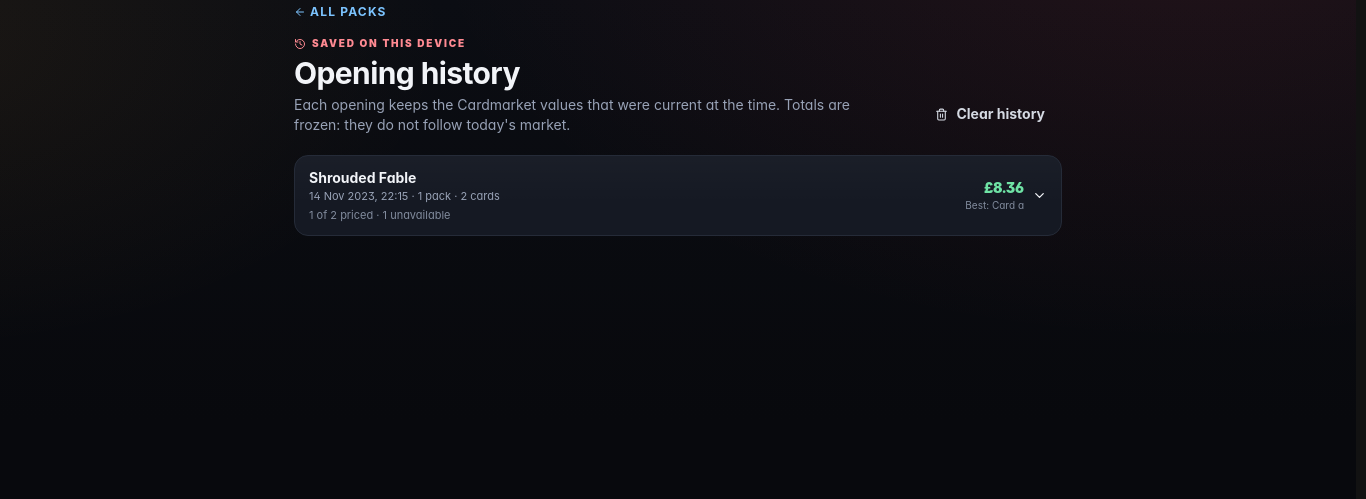
Test case: opening history page › shows both copies when the same card is pulled twice in one pack
What coordinates should you click on to do the following:
click the button "Shrouded Fable"
I would click on:
 (363, 178)
Its box is top-left (295, 156), bottom-right (1061, 235).
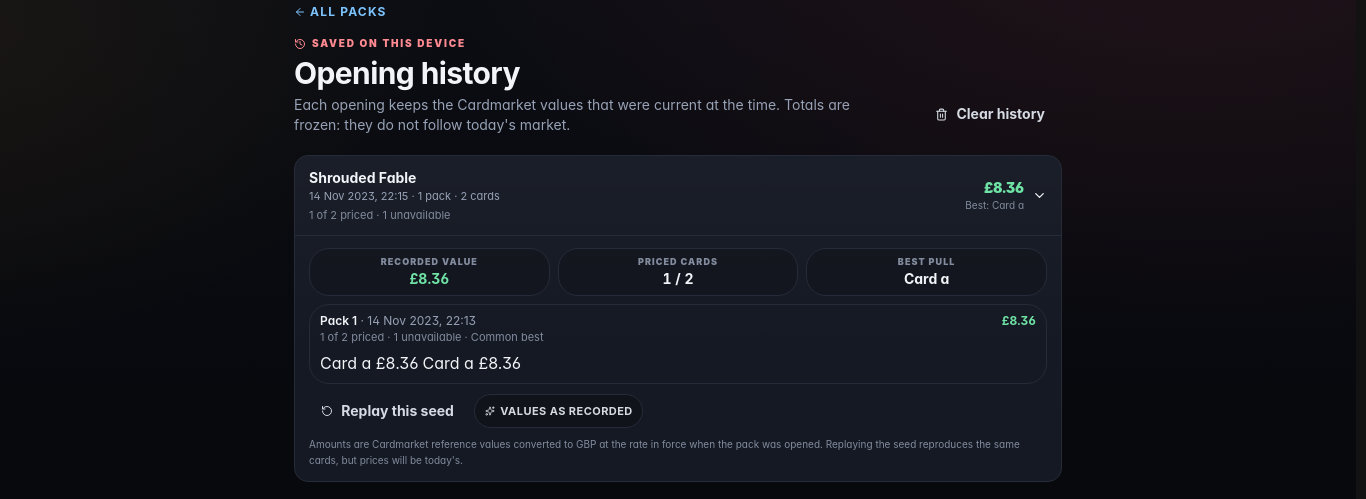
Check: the number of list items "Card a £8.36" is 2, box top-left (320, 351), bottom-right (419, 375); top-left (423, 351), bottom-right (521, 375)
